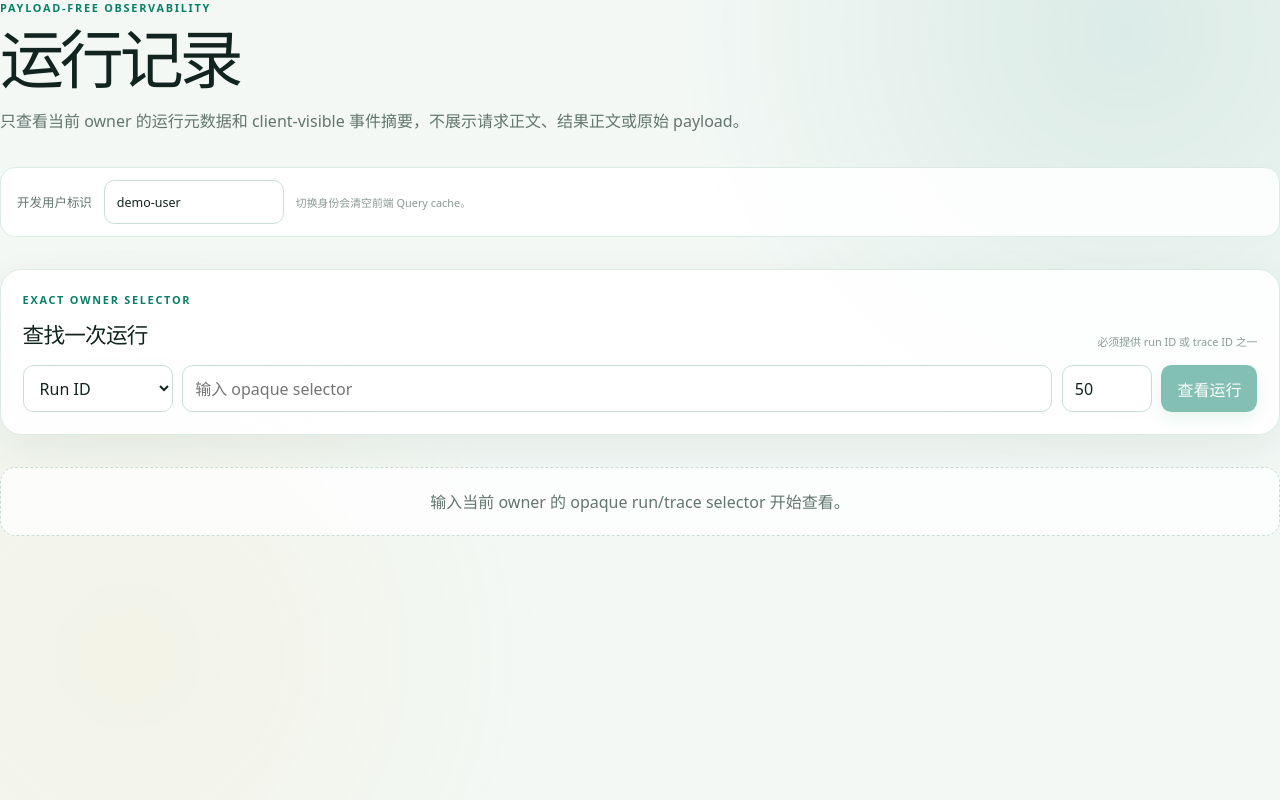
Test: payload-free run inspector › sends exactly one owner-bound run selector and hides event payloads
In the field with test id "run-selector": [617, 389] box [182,365,1052,412], type "run-123"
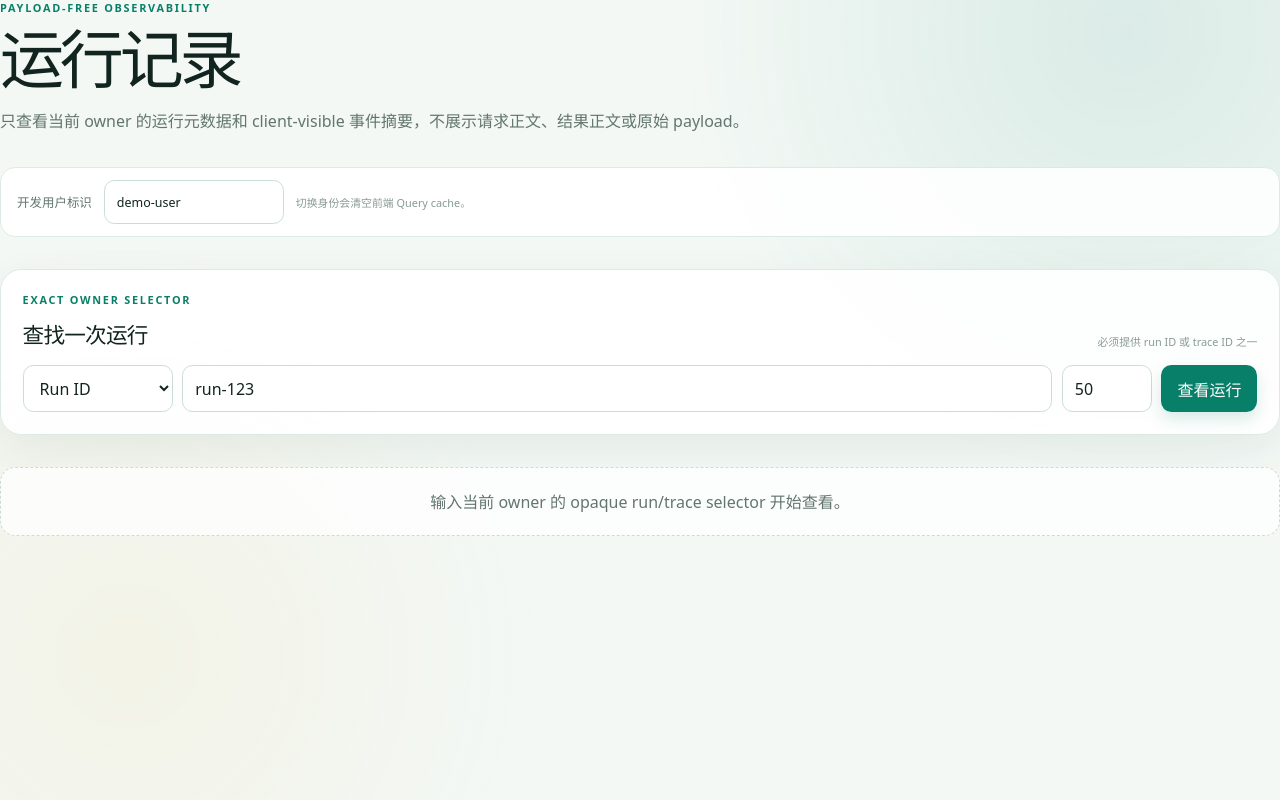
Click the button with test id "run-inspect": [1209, 389] box [1161,365,1257,412]
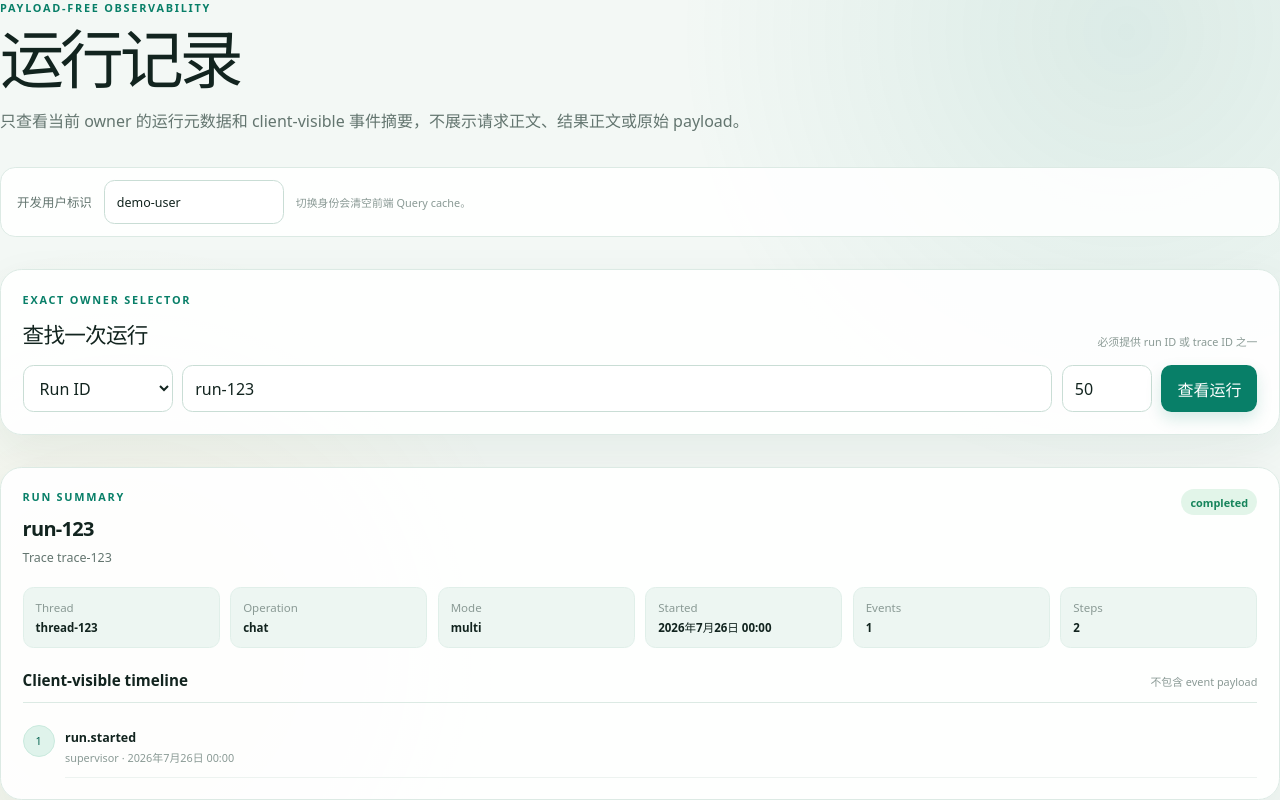
Now the heading "run-123" is shown, box [23,515,94,542]
Now the text "run.started" is shown, box [65,729,136,746]
